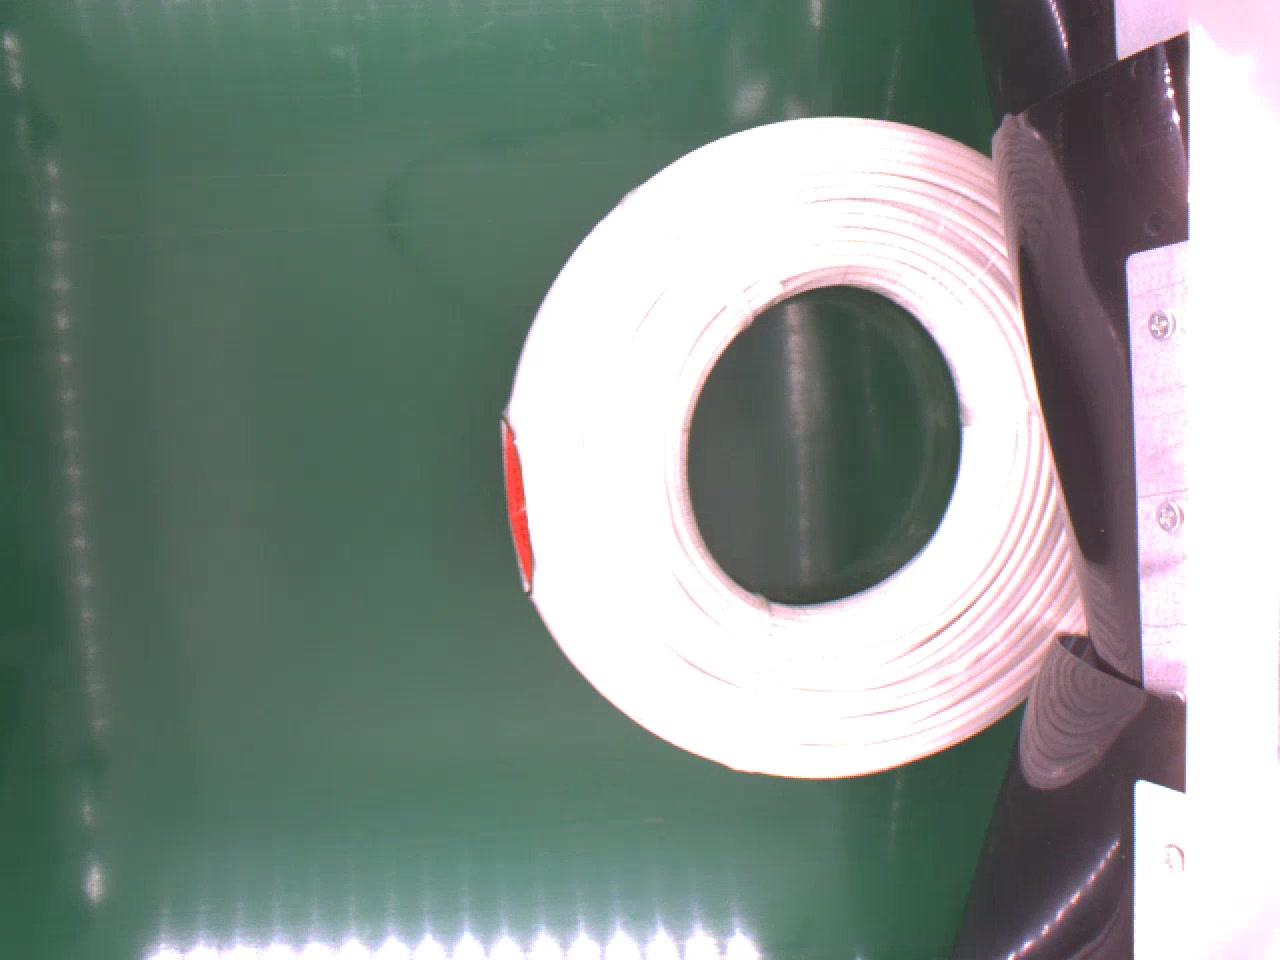white: (488, 116, 1106, 789)
